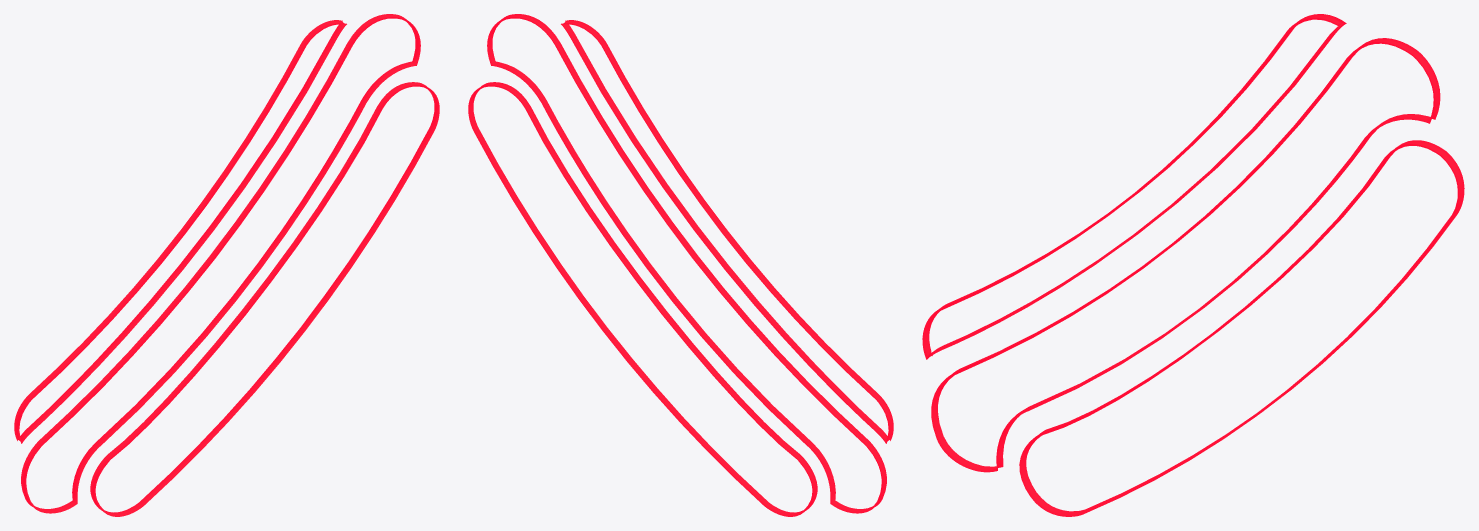
File: hotdog.glb
The picture shows the model from 3 angles, left to right: view 1: azimuth 30°, elevation 25°; view 2: azimuth 150°, elevation 25°; view 3: azimuth 330°, elevation 25°; orthographic projection. The views are drawn at different scales.
Parts seen in each view (by area): view 1: Curve.002; view 2: Curve.002; view 3: Curve.002.
Part boxes in pixels (x1,y1,x2,y2): Curve.002: (14, 14, 439, 516); Curve.002: (468, 14, 893, 516); Curve.002: (922, 14, 1464, 516).
Size of the model in its own units: 4.42 by 4.42 by 0.0798.
